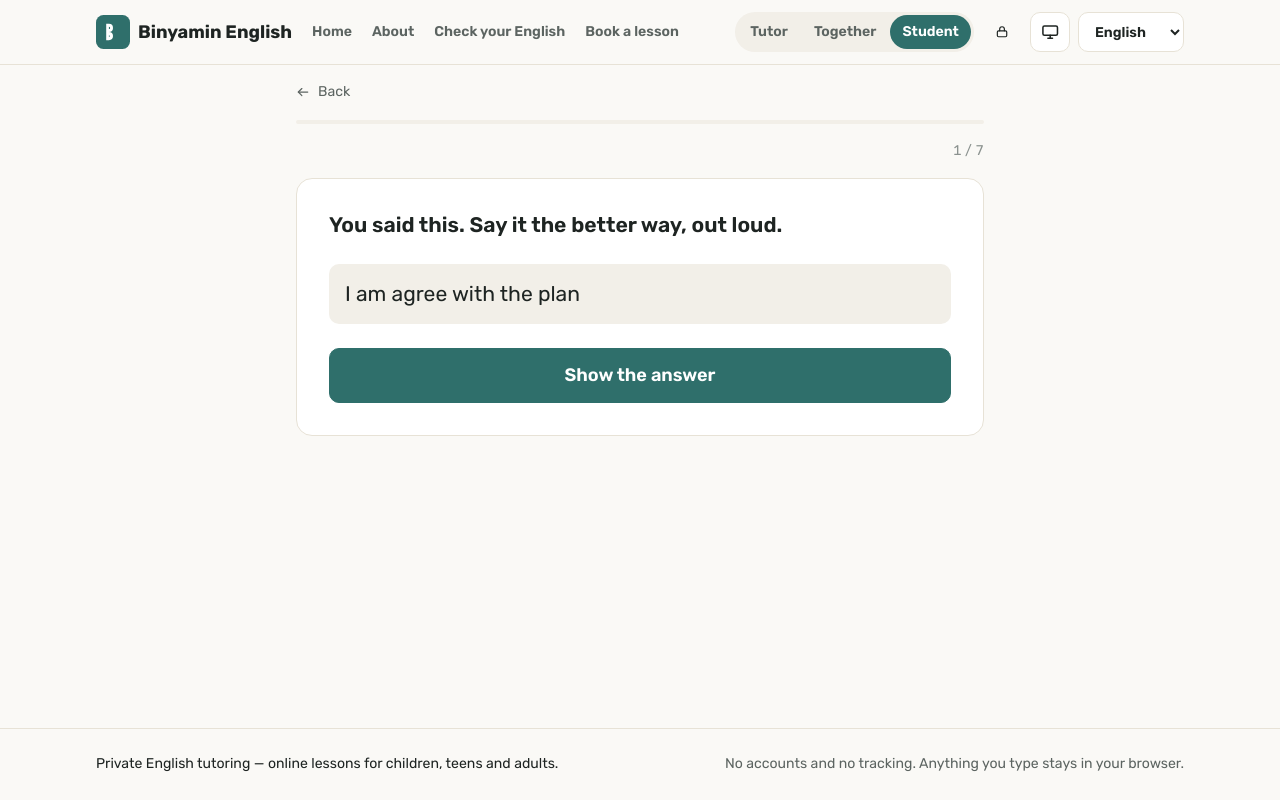
Test: the learner can do the whole set alone, on a phone › lets the learner look back at what they already answered, without changing it
Expected: the text "You said this. Say it the better way, out loud." is shown, 329,212 -> 782,237
Expected: the button "previous" is not shown
Click the button "Show the answer" at (640, 376), box 329,348 -> 951,403
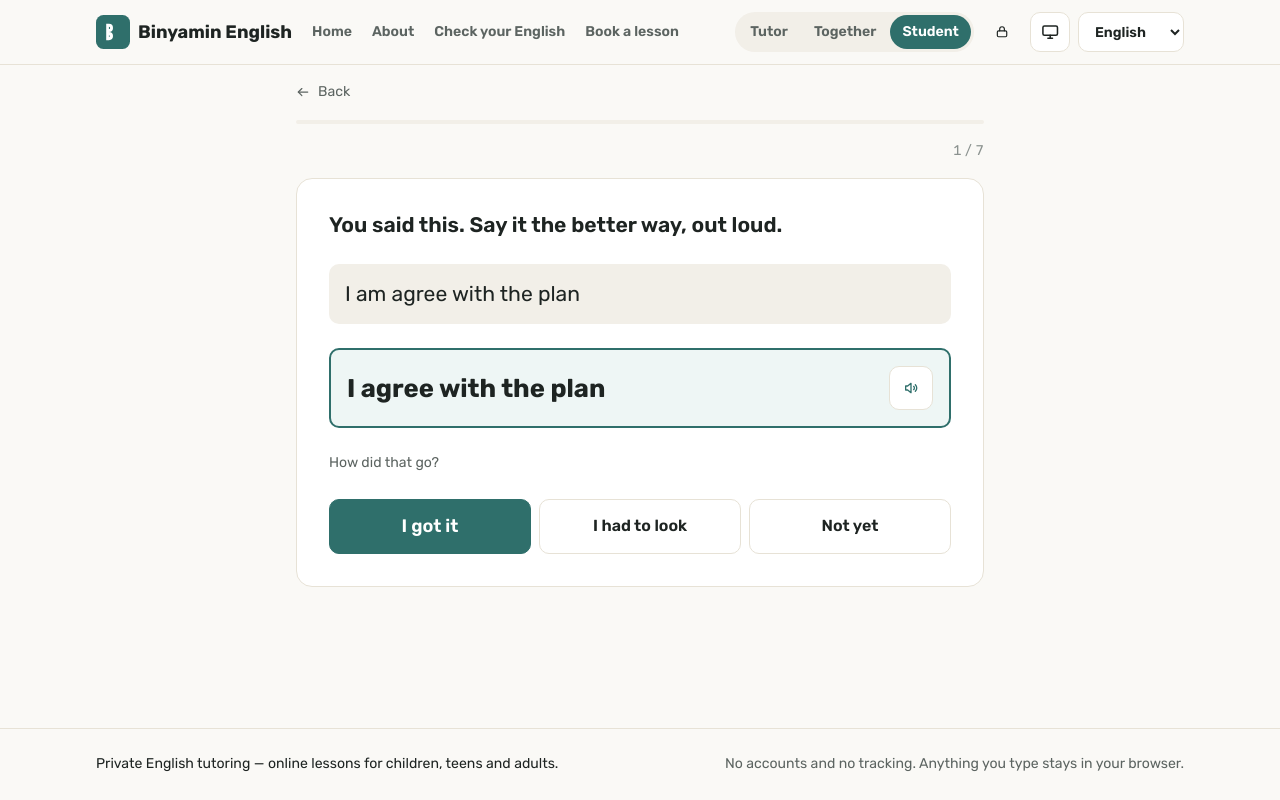
Click the button "I got it" at (430, 526), box 329,499 -> 531,554
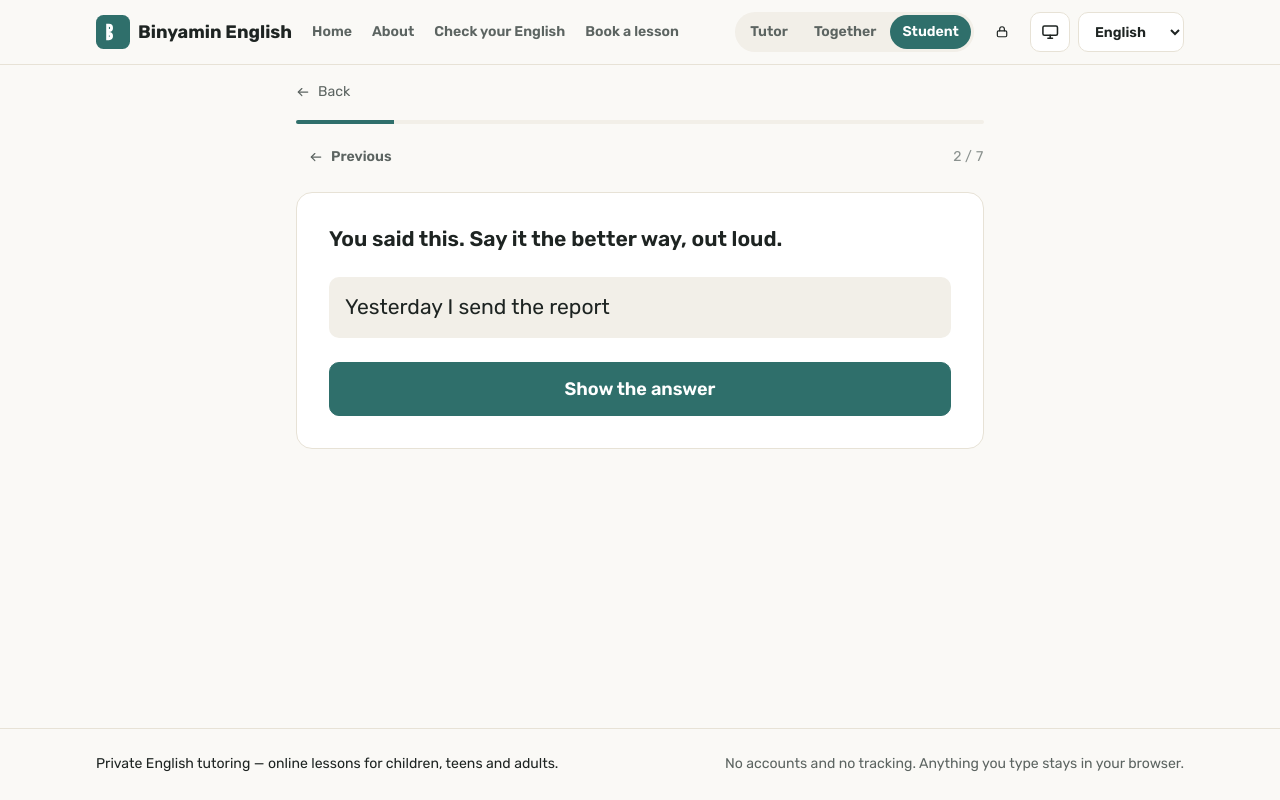
Expected: the text "You said this. Say it the better way, out loud." is shown, 329,226 -> 782,250
// One answer recorded — Previous now offers a read-only look at it.
Click the button "Previous" at (350, 158), box 296,140 -> 404,176
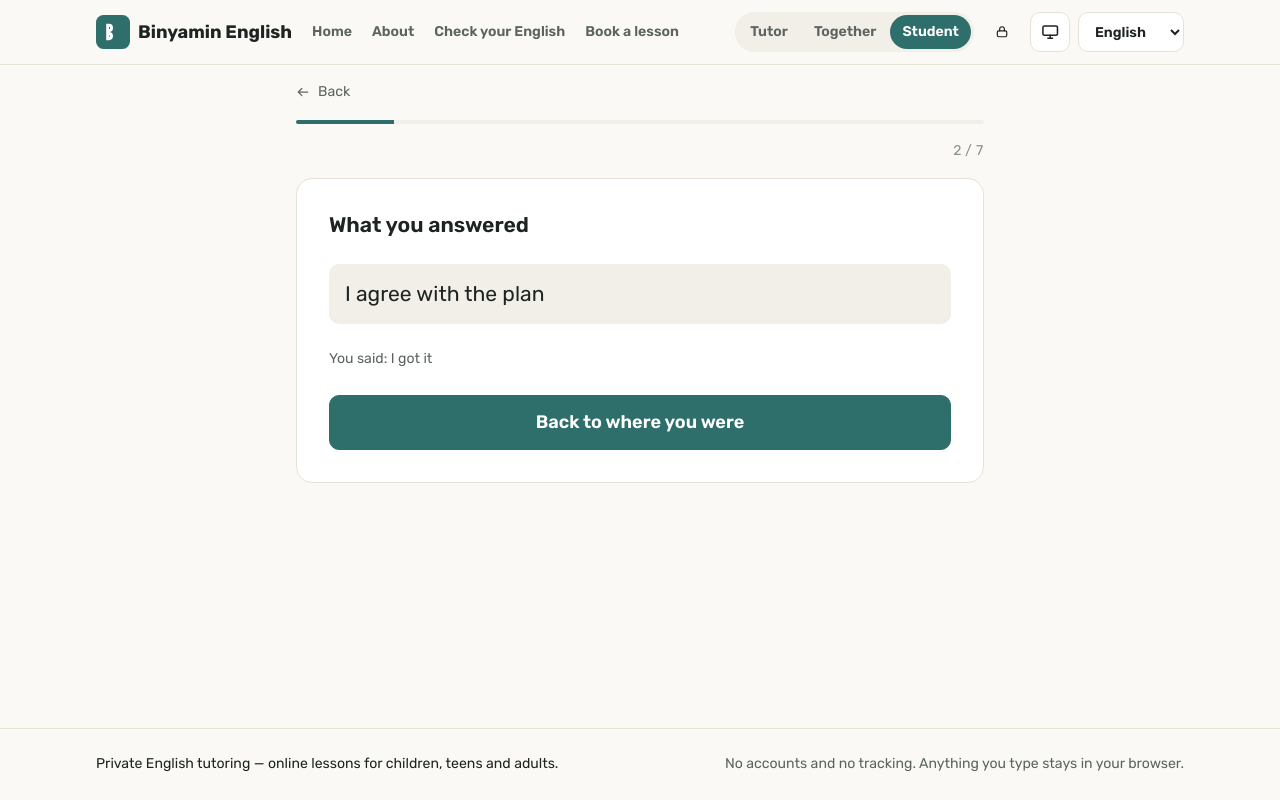
Expected: the text "What you answered" is shown, 329,212 -> 529,237
Expected: the text "I agree with the plan" is shown, 345,280 -> 544,306
Click the button "Back to where you were" at (640, 422), box 329,395 -> 951,450
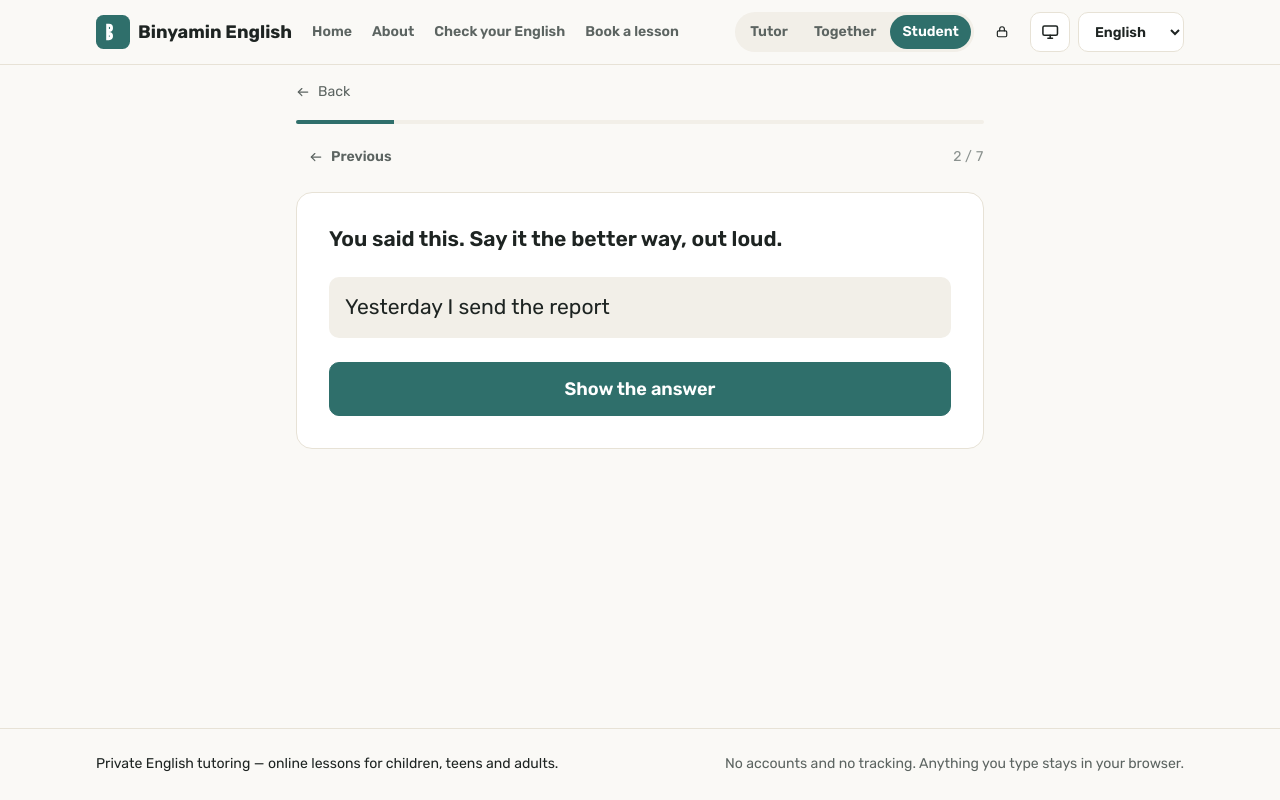
Expected: the text "What you answered" is gone
